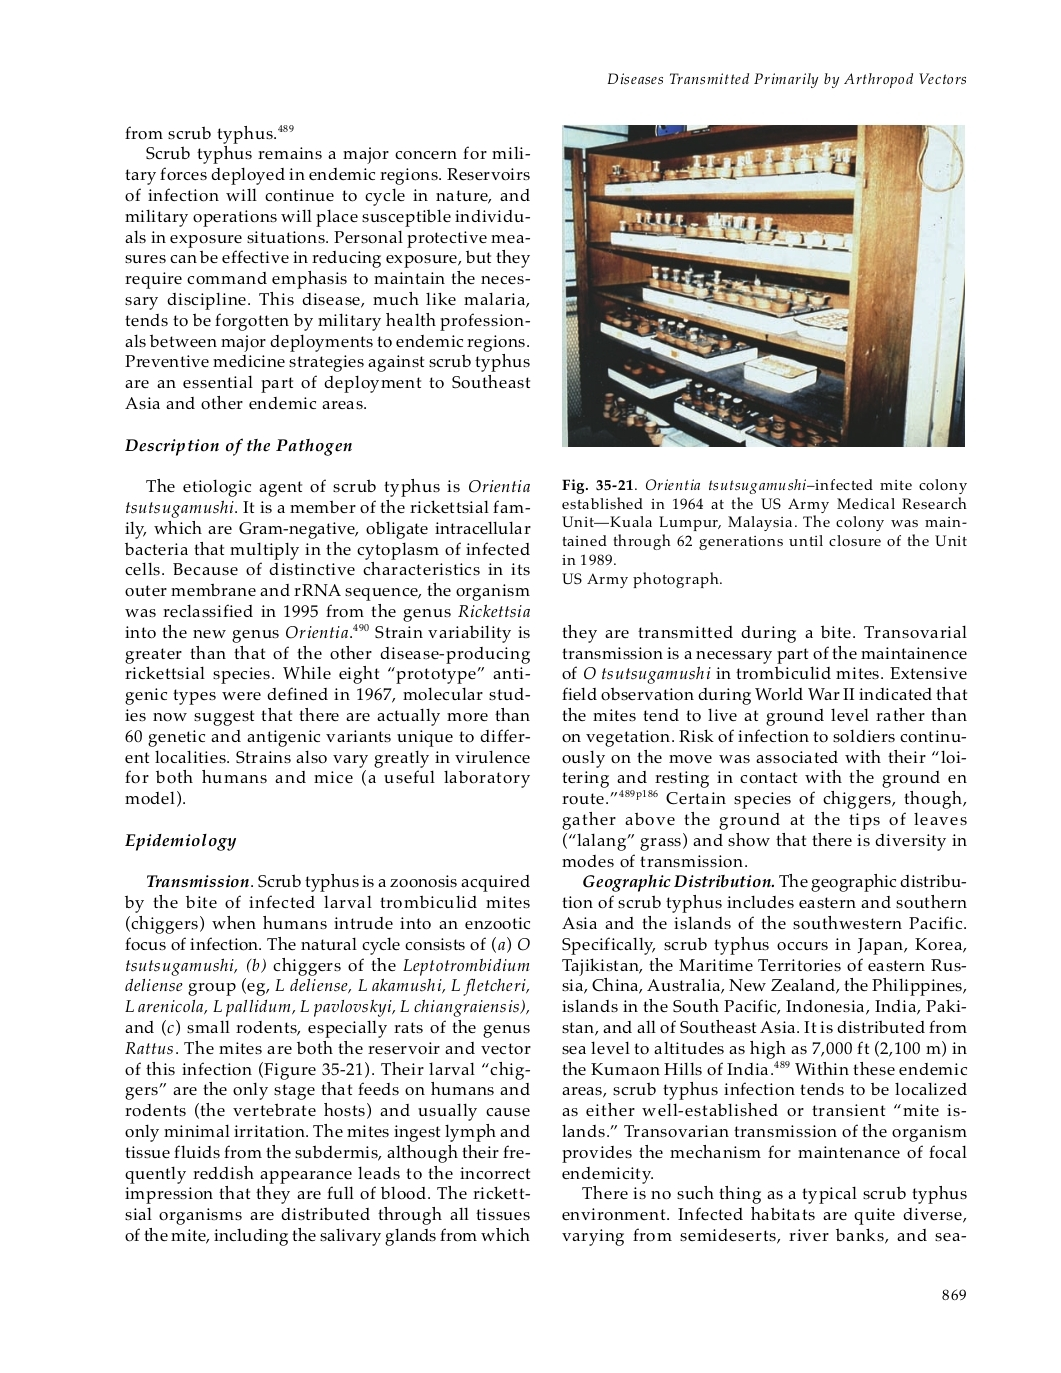figure: (562, 124, 964, 447)
